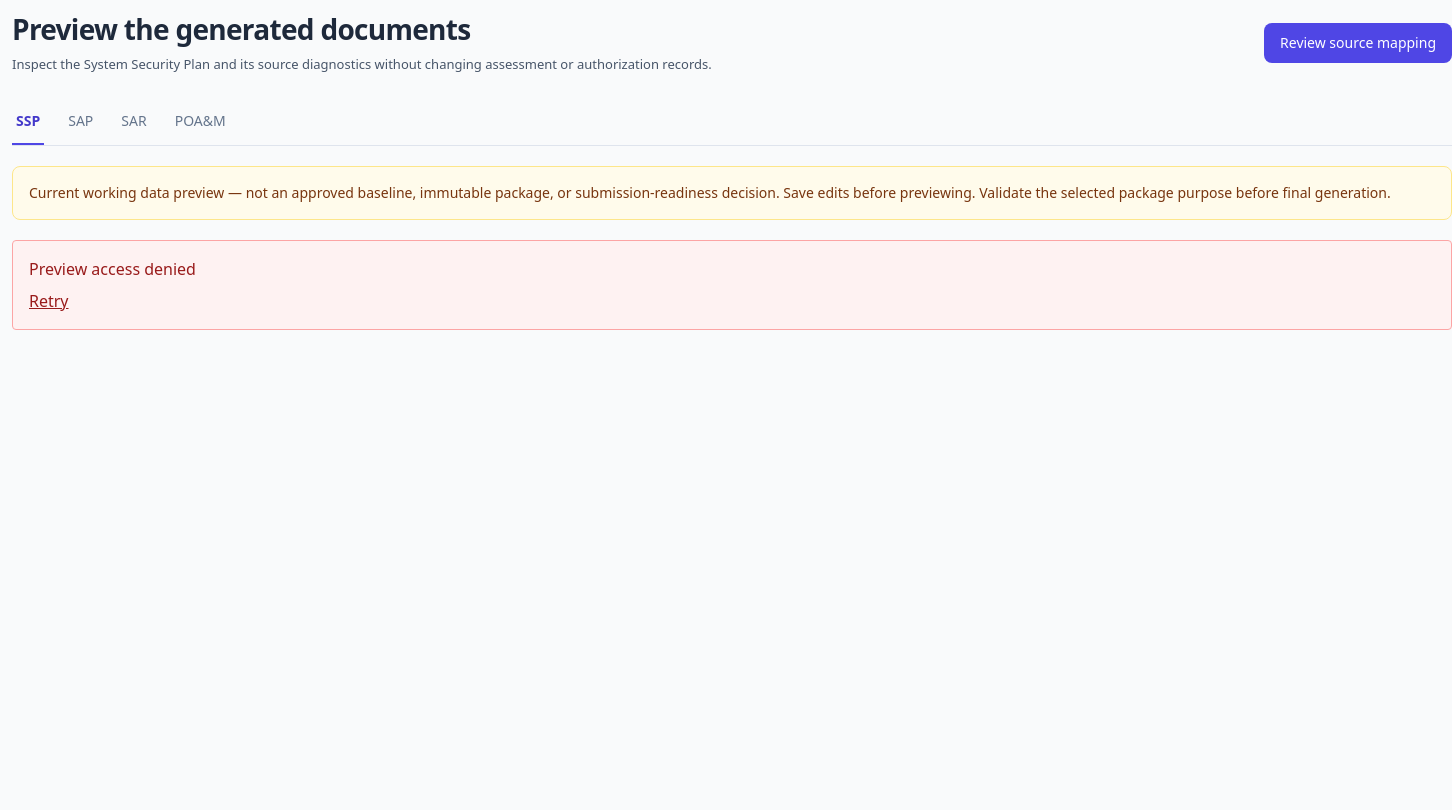
Test: generated document preview › shows unavailable with retry and never invents document content
Check: the message shows "Preview access denied", box [29,258,196,280]
Step 1. Click the button "Retry" → (49, 300), box [29,288,68,312]
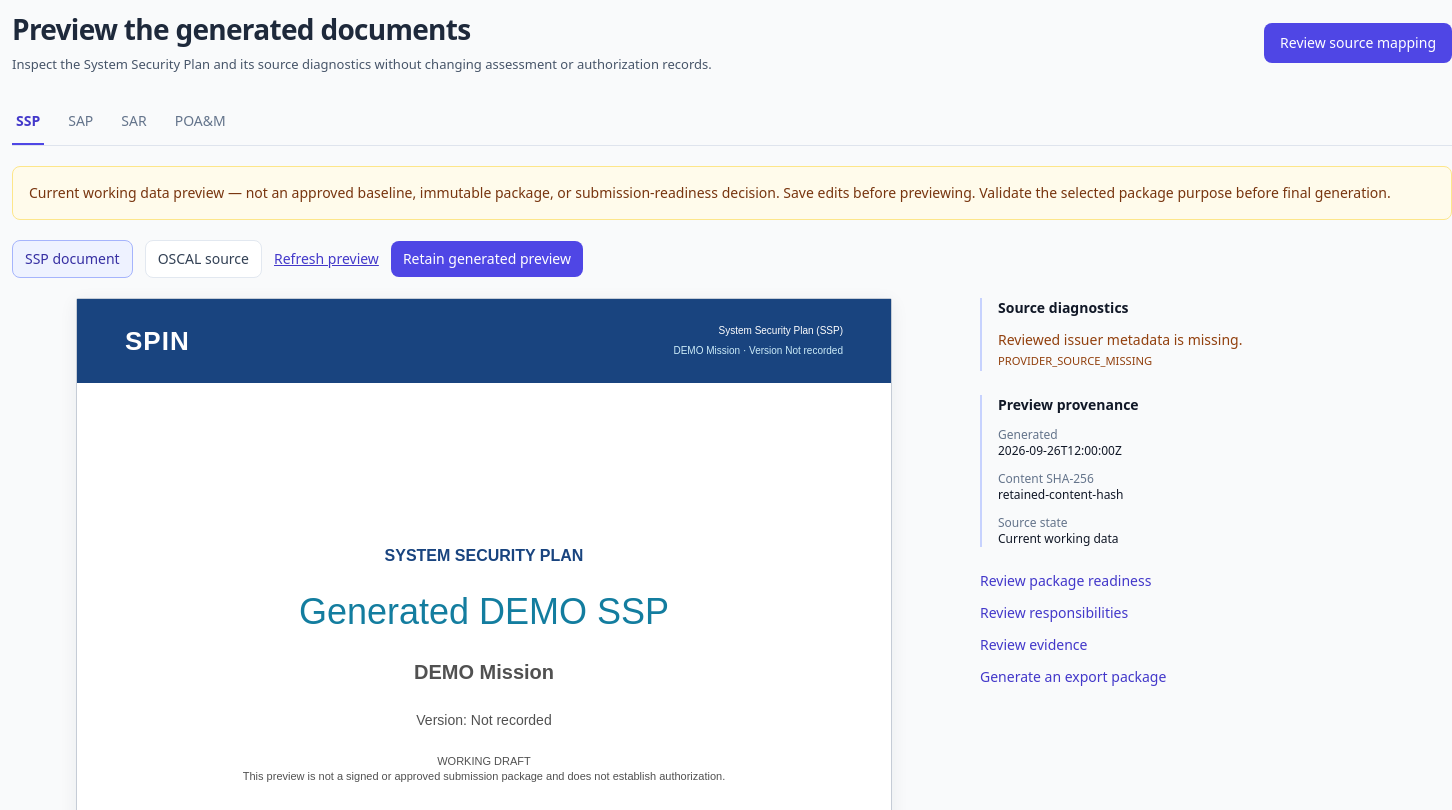
Check: the heading "Generated DEMO SSP" is shown, box [299,592,669,634]
